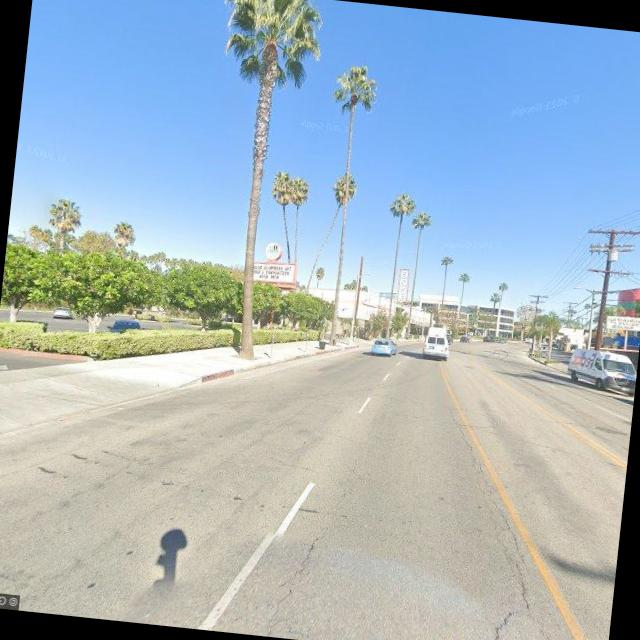pothole: (446, 431, 549, 640), (265, 526, 326, 638)
